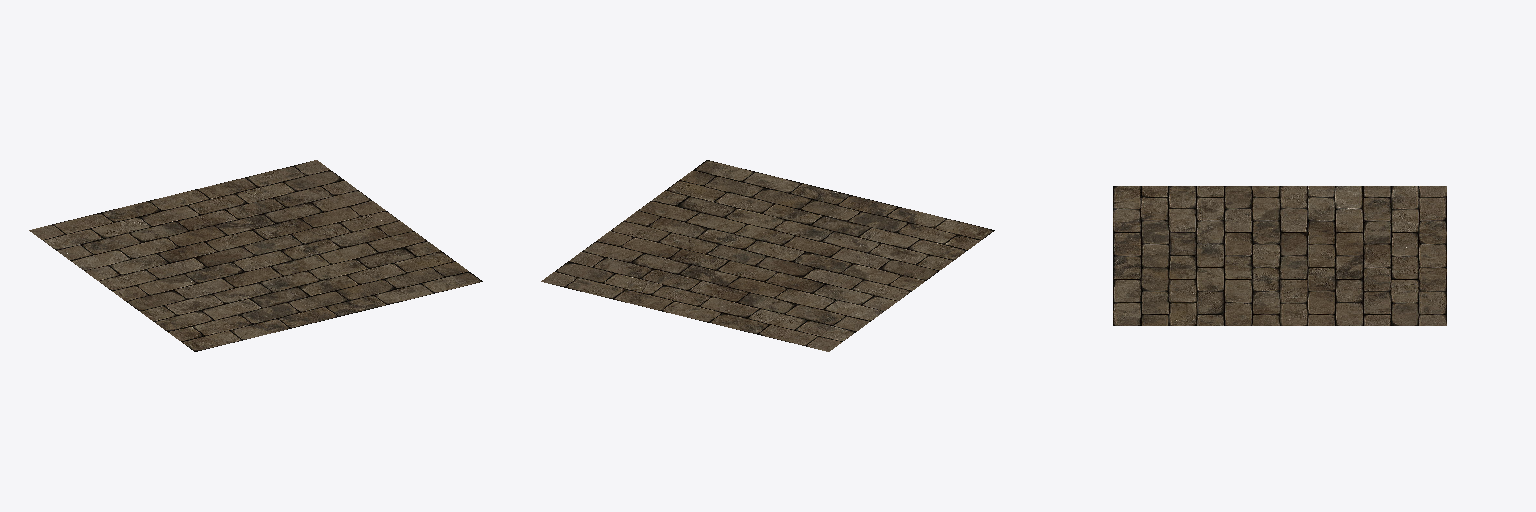
3 views of the same model, side by side, from view 1: azimuth 30°, elevation 25°; view 2: azimuth 150°, elevation 25°; view 3: azimuth 270°, elevation 25° (orthographic).
Parts seen in each view (by area): view 1: Plane_Plane.002; view 2: Plane_Plane.002; view 3: Plane_Plane.002.
Boxes of the visible parts, x1=… form: Plane_Plane.002: x1=29, y1=160, x2=482, y2=351; Plane_Plane.002: x1=541, y1=160, x2=994, y2=351; Plane_Plane.002: x1=1113, y1=186, x2=1446, y2=325.
Bounding box in the file's own units: 2 × 0 × 2.
1 materials, 1 textured.